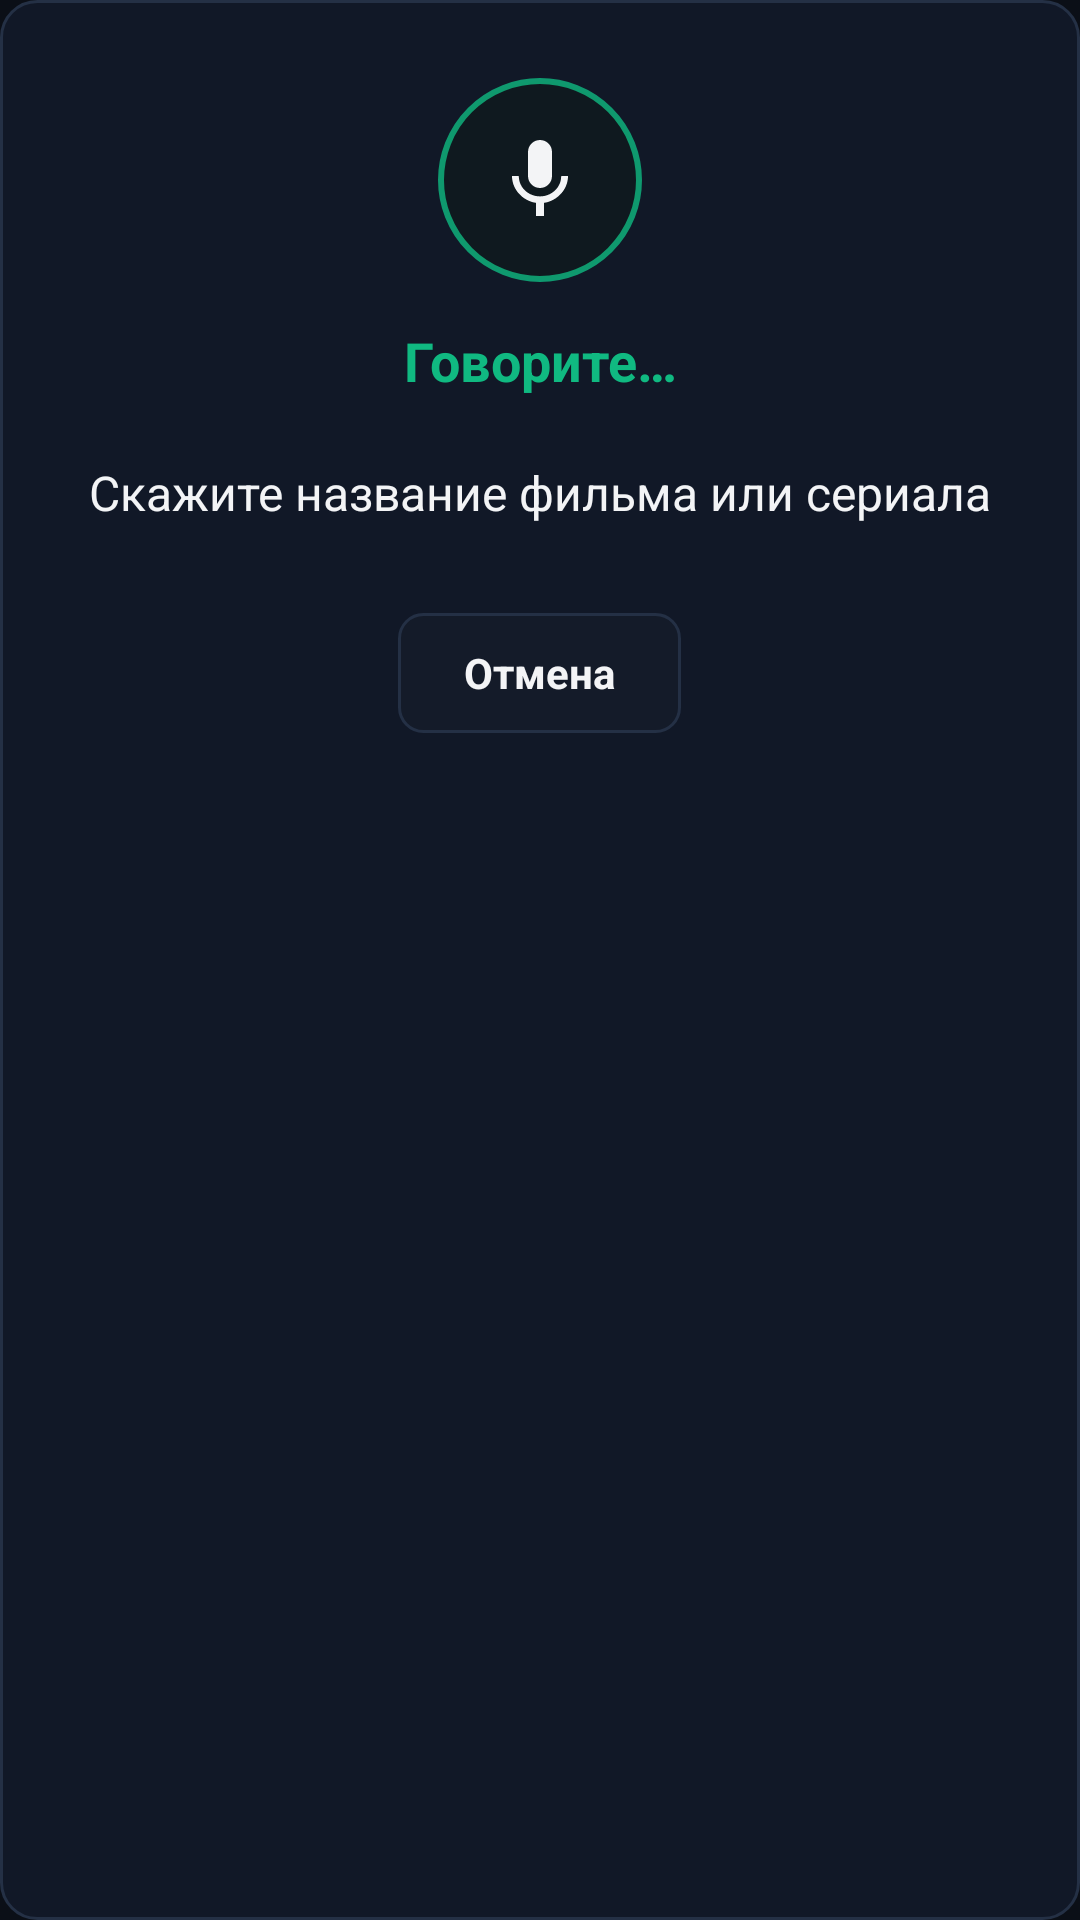

Icons on this 1080px×1920px Android screen, each with the point to tap as [x,y]:
mic: [540,178]
